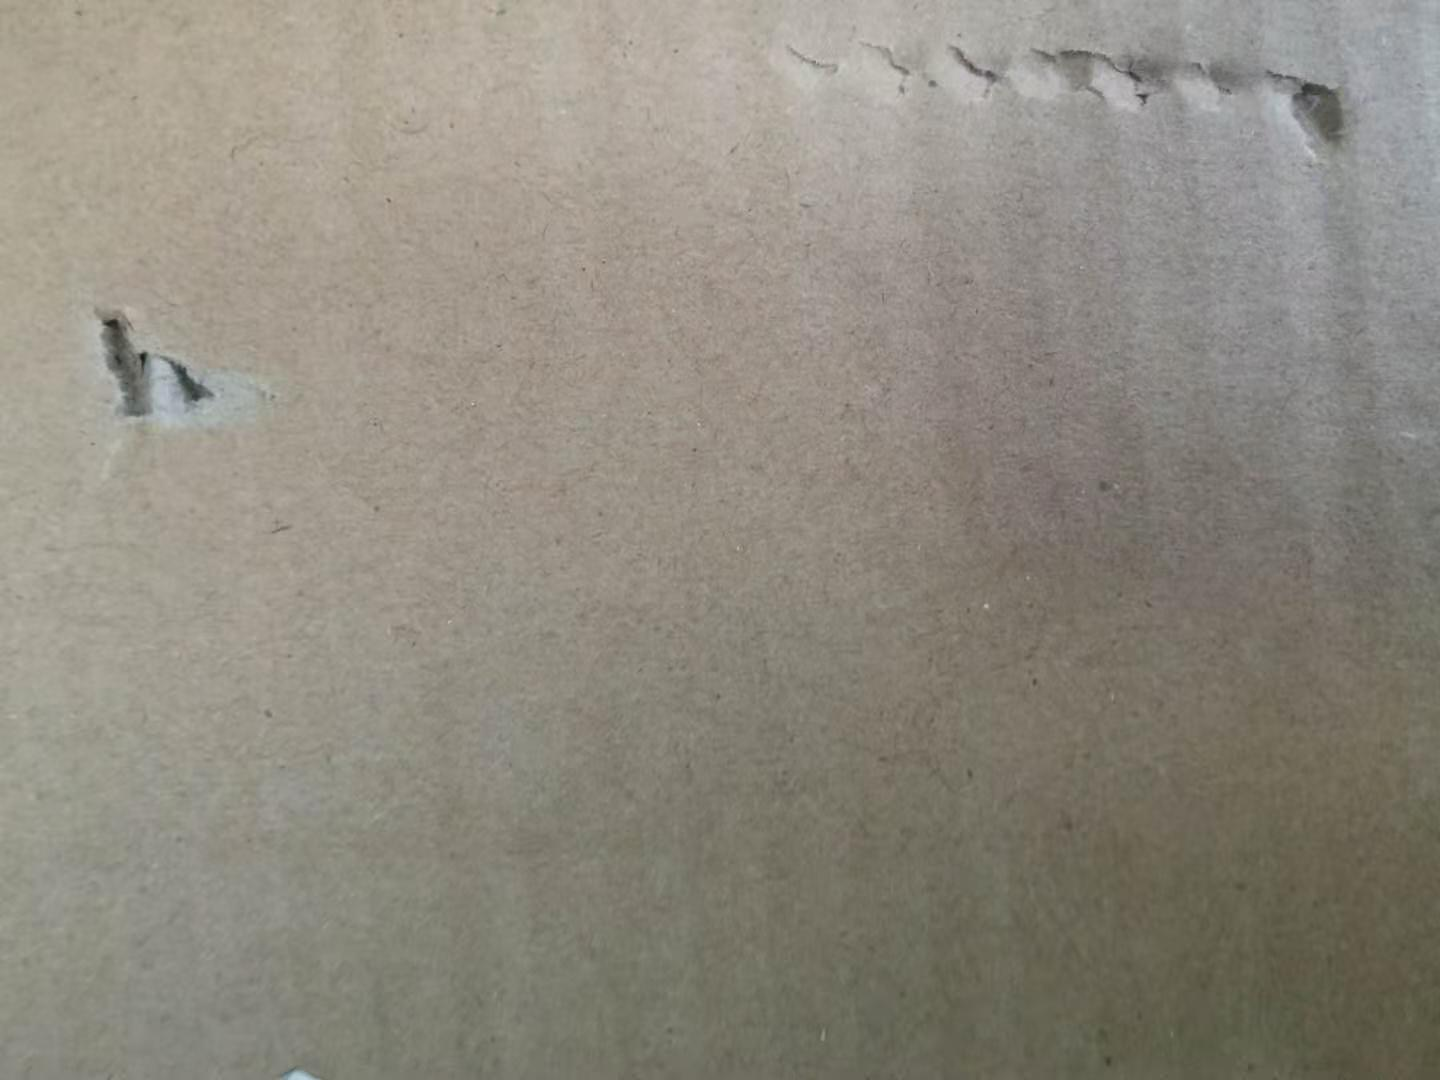defect: (766, 17, 1398, 197), (59, 275, 359, 492)
